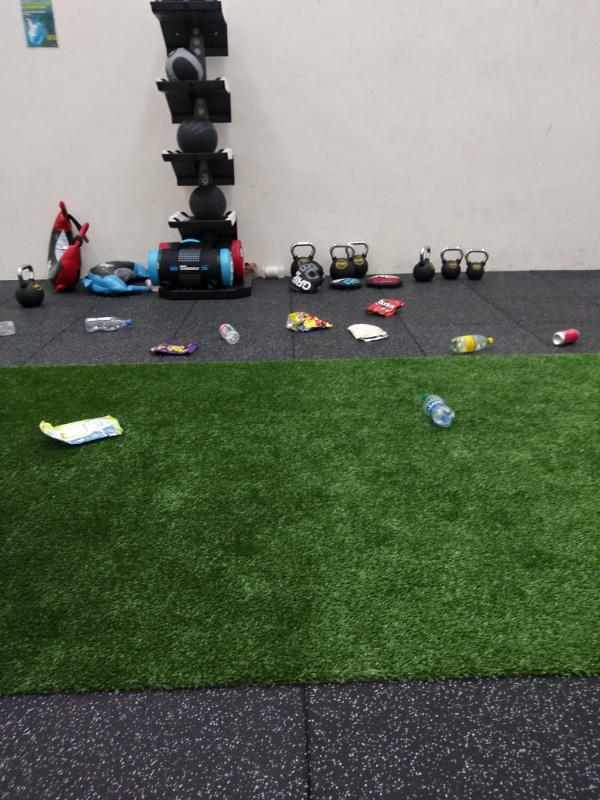bag: (34, 411, 127, 449), (280, 308, 340, 335), (361, 293, 409, 320), (342, 319, 391, 345), (143, 339, 204, 357)
bottle: (414, 384, 457, 431), (447, 330, 497, 357), (82, 311, 137, 335), (215, 319, 243, 349), (1, 316, 19, 339)
can: (543, 324, 584, 346)
